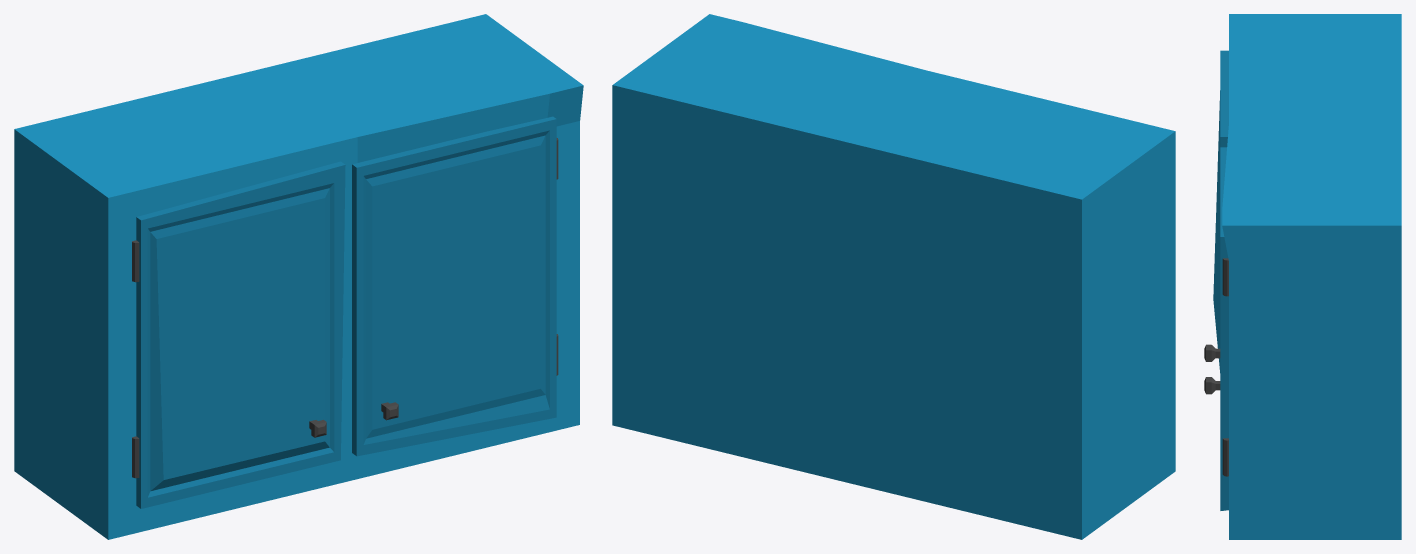
Rendered from cubboard.fbx.
3 views of the same model, side by side, from view 1: azimuth 30°, elevation 25°; view 2: azimuth 150°, elevation 25°; view 3: azimuth 270°, elevation 25° (orthographic). The views are drawn at different scales.
Visible parts, largest first — view 1: Cubboard; view 2: Cubboard; view 3: Cubboard.
Boxes of the visible parts, x1=… form: Cubboard: x1=14, y1=14, x2=583, y2=539; Cubboard: x1=612, y1=14, x2=1175, y2=539; Cubboard: x1=1204, y1=14, x2=1401, y2=539.
Bounding box in the file's own units: 200 × 78.77 × 139.
